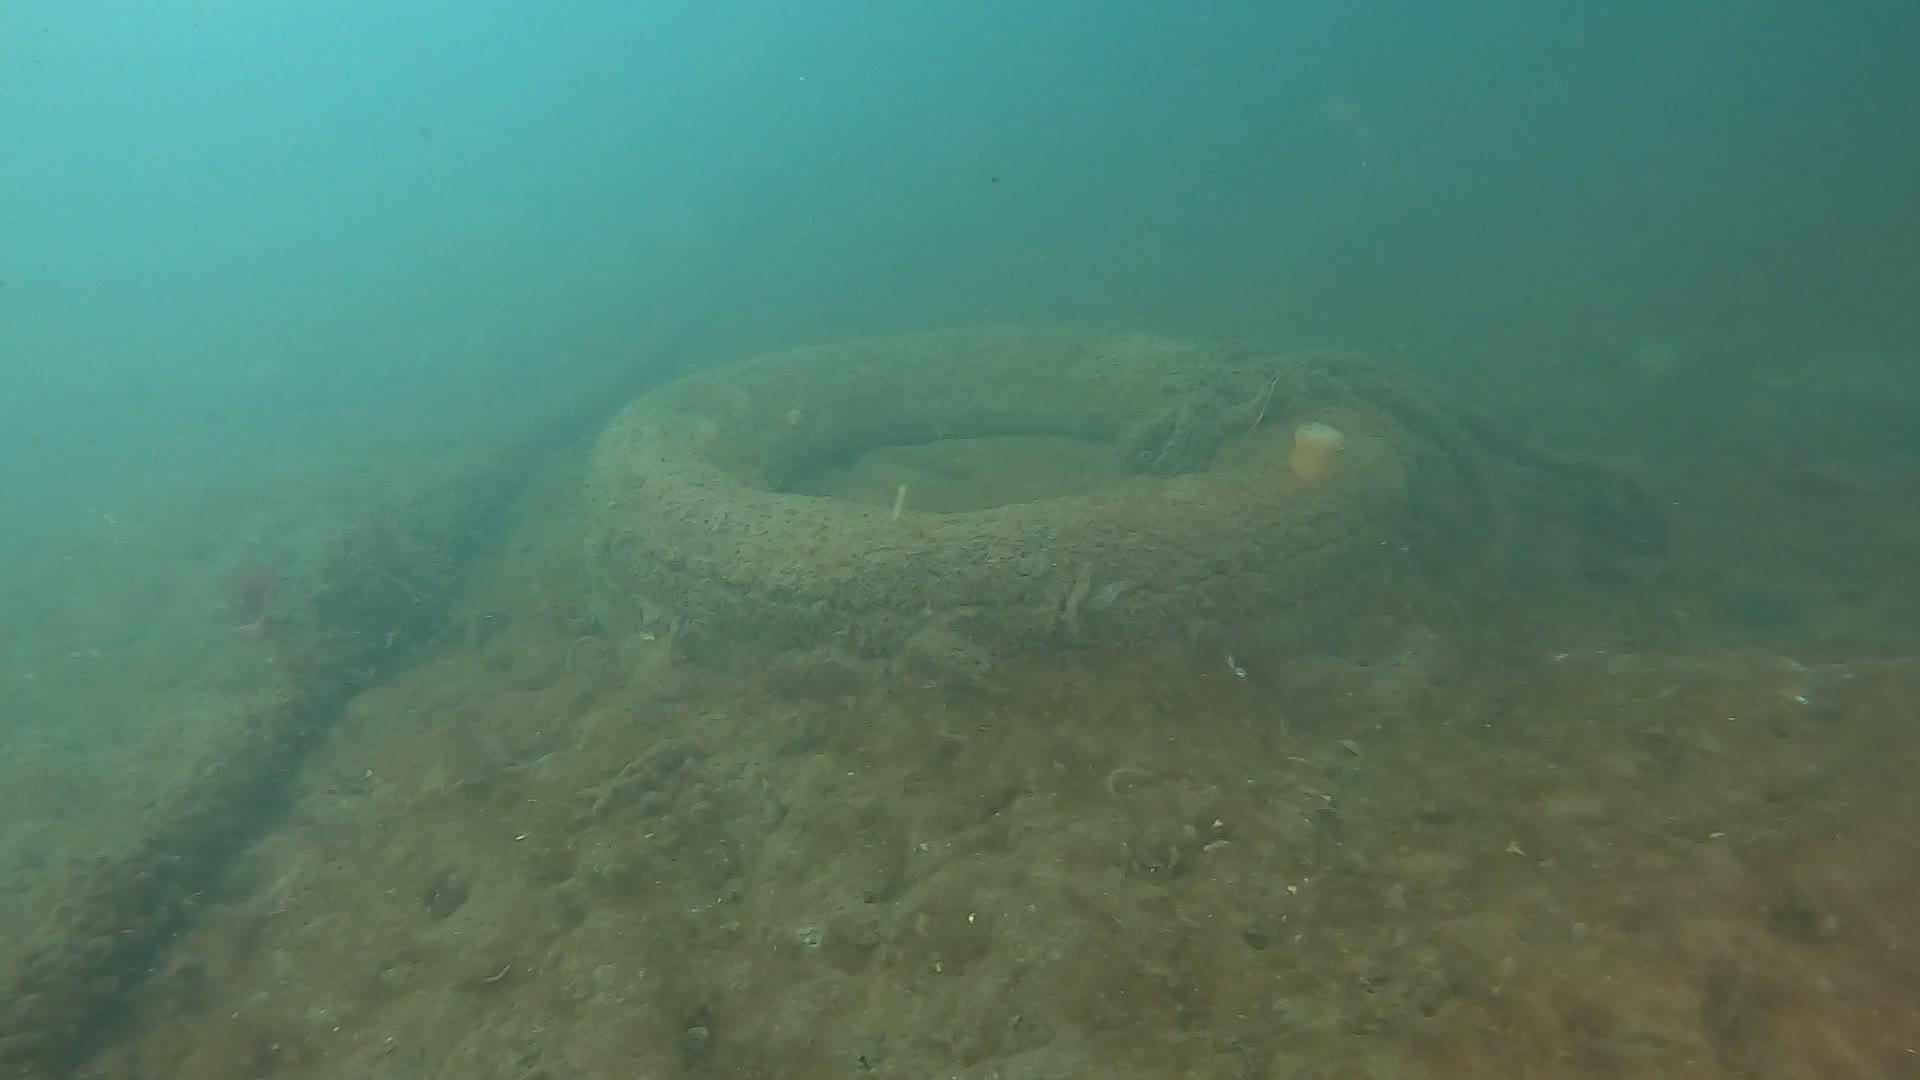tire: (580, 320, 1437, 686)
